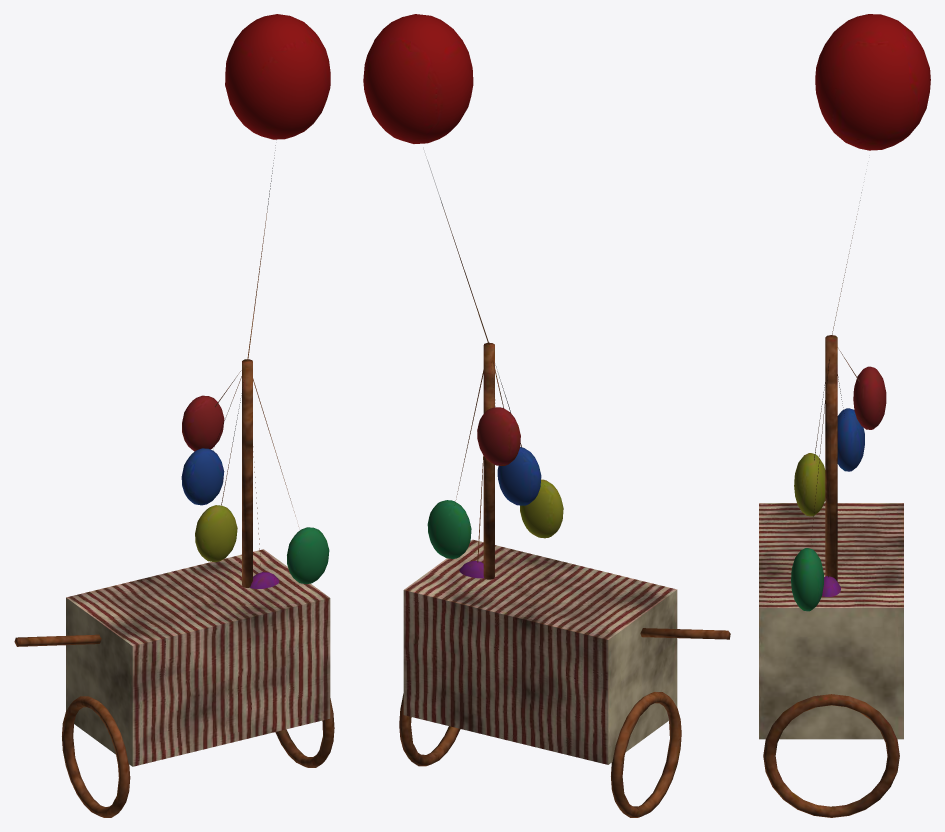
Rendered from balloon_cart.glb.
3 renders of one model, left to right at view 1: azimuth 30°, elevation 25°; view 2: azimuth 150°, elevation 25°; view 3: azimuth 270°, elevation 25°, orthographic. The views are drawn at different scales.
Parts seen in each view (by area): view 1: Main; view 2: Main; view 3: Main.
Part boxes in pixels (x1=…): Main: x1=14, y1=14, x2=334, y2=817; Main: x1=363, y1=14, x2=730, y2=817; Main: x1=759, y1=14, x2=930, y2=817.
Size of the model in its own units: 1.98 by 4.25 by 0.8294.
Materials: 1 (1 with a texture image).
